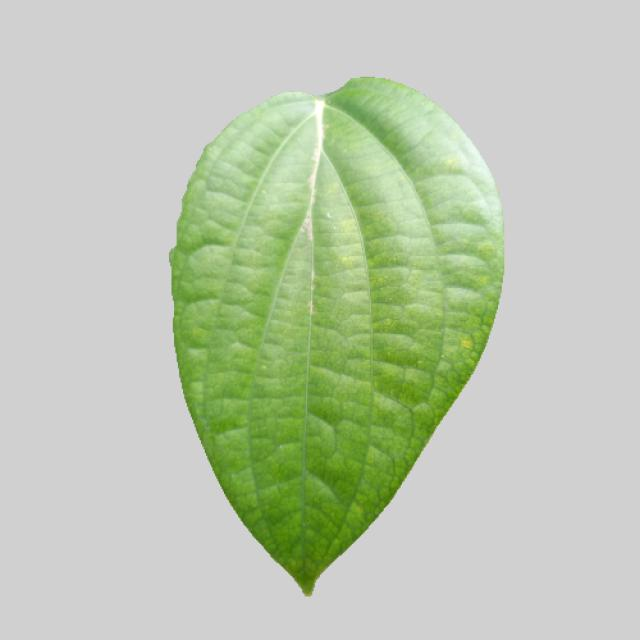healthy: (171, 74, 504, 604)
